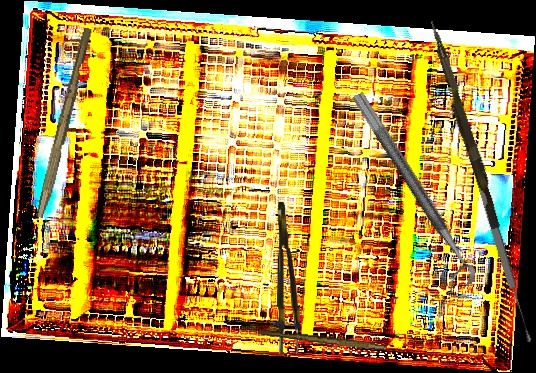Fixation Ring: (335, 90, 481, 296)
Pusher: (421, 19, 506, 230)
Scalpel Handle: (35, 26, 94, 220), (257, 328, 388, 351)
Surgical Spoon: (468, 157, 535, 346)
Tissue Forceps: (275, 201, 301, 355)
